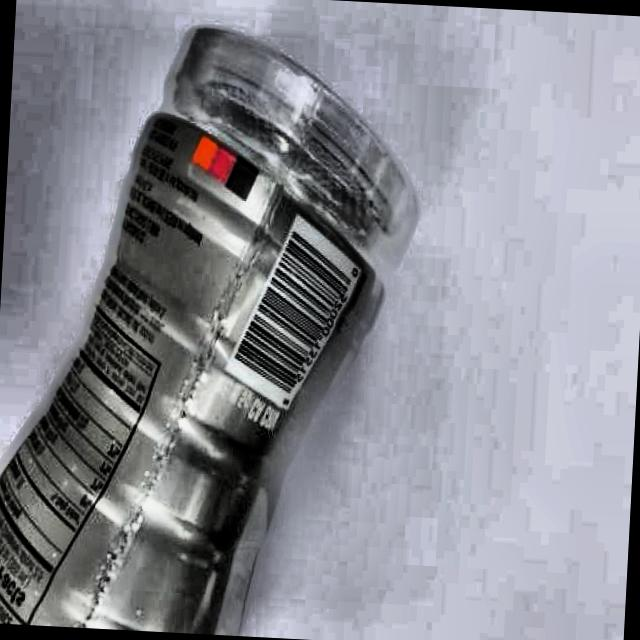plastic bottle: (0, 28, 417, 636)
